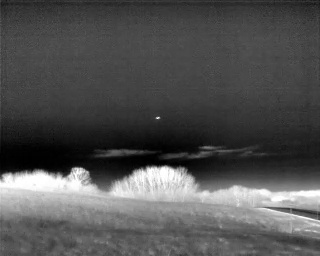AIRPLANE: (154, 114, 162, 121)
